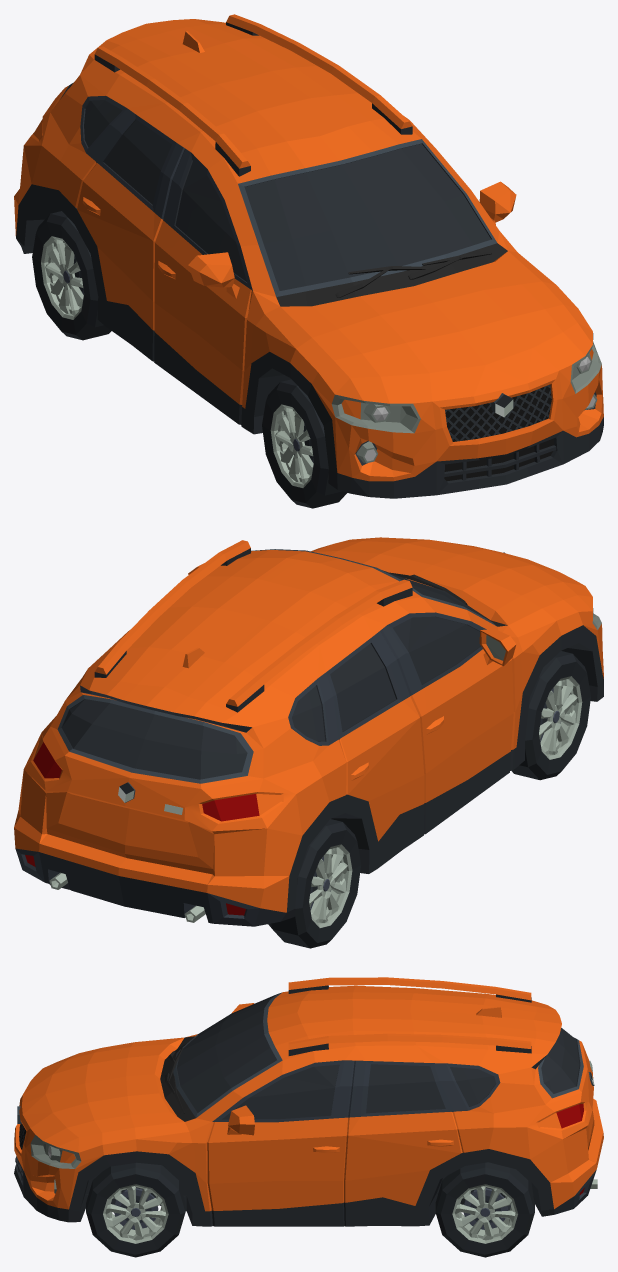
Rendered from SUV_Orange.fbx.
3 views of the same model, one above another, from view 1: azimuth 30°, elevation 25°; view 2: azimuth 150°, elevation 25°; view 3: azimuth 270°, elevation 25° (orthographic). The views are drawn at different scales.
Parts seen in each view (by area): view 1: SM_Veh_Car_Medium_01.002, SM_Veh_Car_Medium_Wheel_fr.002, SM_Veh_Car_Medium_Wheel_rr.002; view 2: SM_Veh_Car_Medium_01.002, SM_Veh_Car_Medium_Wheel_rr.002, SM_Veh_Car_Medium_Wheel_fr.002; view 3: SM_Veh_Car_Medium_01.002, SM_Veh_Car_Medium_Wheel_fl.002, SM_Veh_Car_Medium_Wheel_rl.002.
Part boxes in pixels (left/top/right/bottom): SM_Veh_Car_Medium_01.002: left=14, top=14, right=603, bottom=498; SM_Veh_Car_Medium_Wheel_fr.002: left=262, top=379, right=346, bottom=508; SM_Veh_Car_Medium_Wheel_rr.002: left=32, top=211, right=111, bottom=340; SM_Veh_Car_Medium_01.002: left=14, top=537, right=603, bottom=926; SM_Veh_Car_Medium_Wheel_rr.002: left=268, top=819, right=361, bottom=948; SM_Veh_Car_Medium_Wheel_fr.002: left=511, top=651, right=590, bottom=780; SM_Veh_Car_Medium_01.002: left=14, top=977, right=603, bottom=1226; SM_Veh_Car_Medium_Wheel_fl.002: left=86, top=1162, right=185, bottom=1257; SM_Veh_Car_Medium_Wheel_rl.002: left=435, top=1162, right=534, bottom=1257.
Size of the model in its own units: 2.48 by 1.98 by 5.22.
